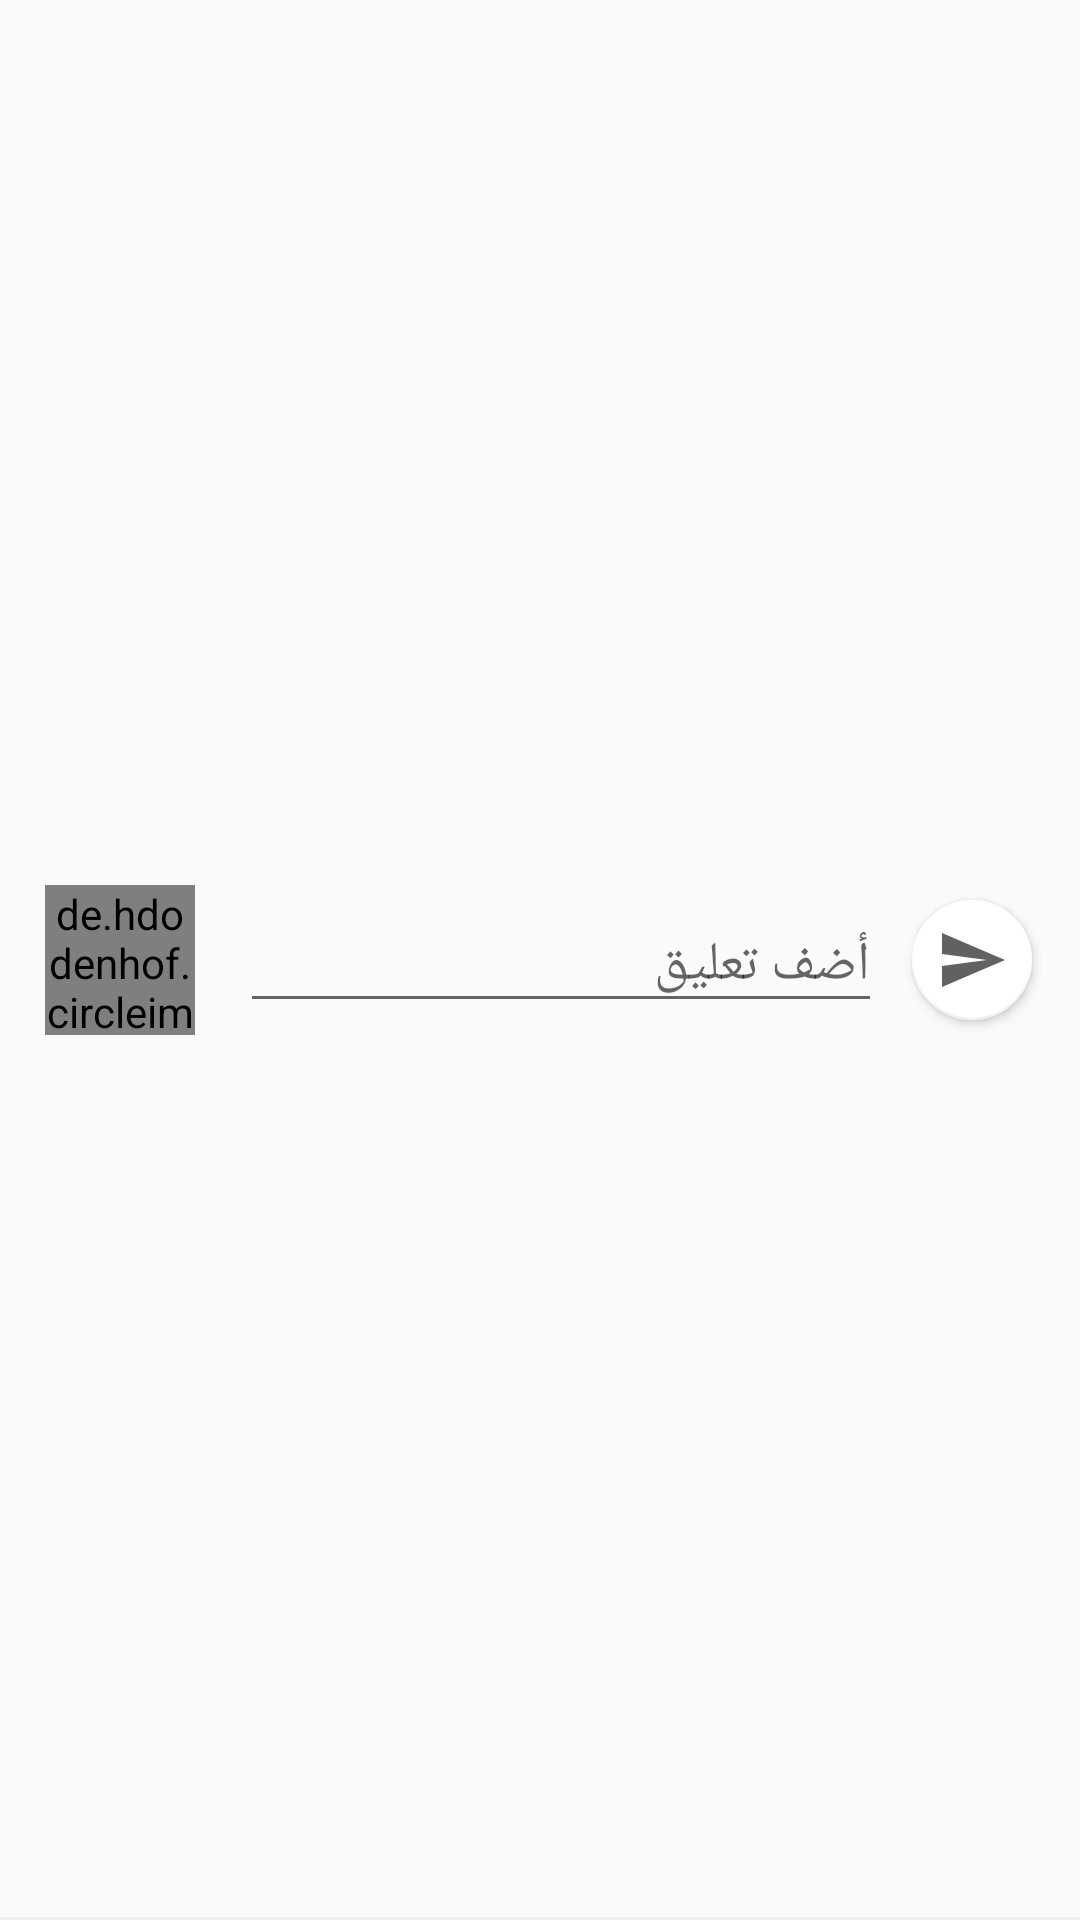

Screen size 1080px×1920px. Icon name, then its box in pixels as (x1,y1,x2,y2):
send: (919,929,1032,1020)
